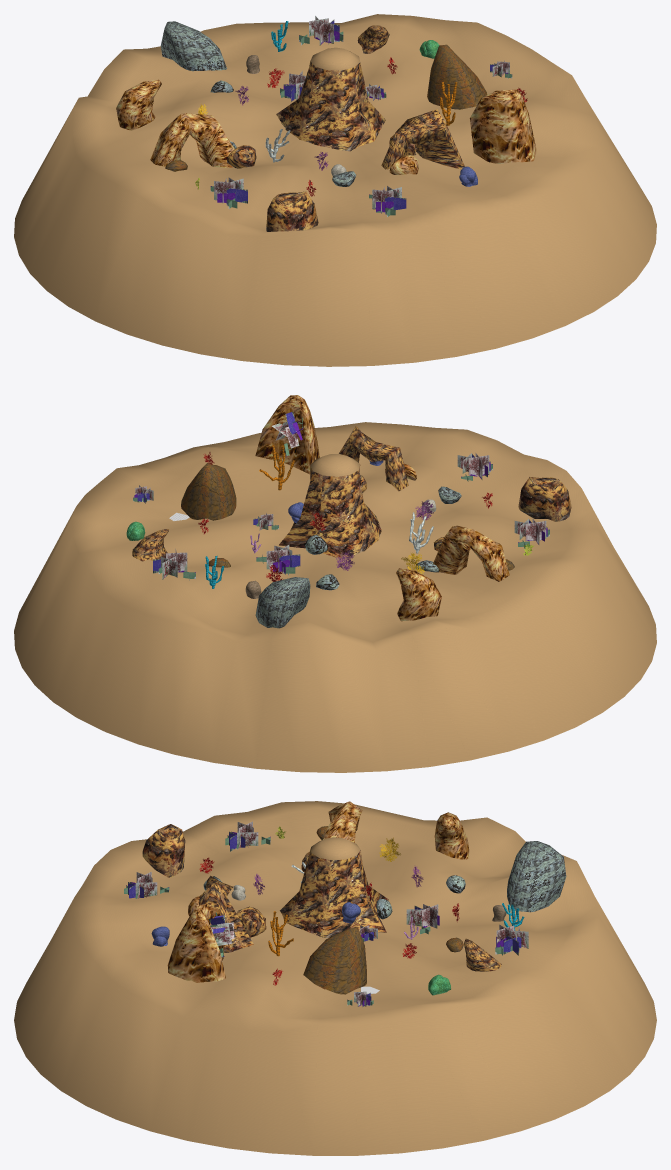
The model's file is SG_env_Terrain_ALL.FBX.
The picture shows the model from 3 angles, top to bottom: view 1: azimuth 30°, elevation 25°; view 2: azimuth 150°, elevation 25°; view 3: azimuth 270°, elevation 25°; orthographic projection.
Parts seen in each view (by area): view 1: SG_EnvTerrain, SG_env_Isle, SG_env_bigRock_3, SG_env_gate_1, SG_env_gate_2, SG_env_bigRock_2, SG_env_bigRock_1, SG_env_bigRock_4, SG_env_bigRock_5, SG_envProp_Coral2_V05, SG_envProp_Coral2_V04, SG_envProp_Coral2_V3 (+2 smaller); view 2: SG_EnvTerrain, SG_env_Isle, SG_env_bigRock_3, SG_env_gate_1, SG_env_bigRock_2, SG_env_bigRock_1, SG_env_bigRock_4, SG_env_bigRock_5, SG_env_gate_2, SG_envProp_Coral2_V06, SG_envProp_Coral2_V3, SG_env_bigRock_6 (+3 smaller); view 3: SG_EnvTerrain, SG_env_Isle, SG_env_bigRock_1, SG_env_bigRock_3, SG_env_bigRock_2, SG_env_bigRock_4, SG_env_gate_2, SG_env_bigRock_5, SG_env_gate_1, SG_envProp_Coral2_V3, SG_env_bigRock_6, SG_envProp_Coral2_V06 (+4 smaller).
Part boxes in pixels (left/top/right/bottom): SG_EnvTerrain: left=14, top=14, right=656, bottom=366; SG_env_Isle: left=276, top=47, right=385, bottom=151; SG_env_bigRock_3: left=469, top=89, right=536, bottom=163; SG_env_gate_1: left=150, top=113, right=234, bottom=167; SG_env_gate_2: left=381, top=109, right=464, bottom=169; SG_env_bigRock_2: left=427, top=44, right=487, bottom=109; SG_env_bigRock_1: left=160, top=21, right=226, bottom=71; SG_env_bigRock_4: left=266, top=191, right=318, bottom=231; SG_env_bigRock_5: left=116, top=79, right=161, bottom=130; SG_envProp_Coral2_V05: left=210, top=177, right=247, bottom=208; SG_envProp_Coral2_V04: left=369, top=186, right=406, bottom=216; SG_envProp_Coral2_V3: left=299, top=16, right=343, bottom=45; SG_EnvTerrain: left=14, top=422, right=656, bottom=772; SG_env_Isle: left=279, top=454, right=381, bottom=559; SG_env_bigRock_3: left=255, top=395, right=319, bottom=474; SG_env_gate_1: left=433, top=525, right=509, bottom=581; SG_env_bigRock_2: left=181, top=463, right=236, bottom=520; SG_env_bigRock_1: left=255, top=577, right=310, bottom=628; SG_env_bigRock_4: left=518, top=477, right=571, bottom=521; SG_env_bigRock_5: left=396, top=568, right=441, bottom=621; SG_env_gate_2: left=339, top=426, right=408, bottom=491; SG_envProp_Coral2_V06: left=256, top=544, right=300, bottom=575; SG_envProp_Coral2_V3: left=153, top=549, right=195, bottom=580; SG_env_bigRock_6: left=132, top=529, right=168, bottom=561; SG_EnvTerrain: left=14, top=801, right=656, bottom=1155; SG_env_Isle: left=280, top=837, right=388, bottom=937; SG_env_bigRock_1: left=507, top=841, right=566, bottom=912; SG_env_bigRock_3: left=167, top=903, right=225, bottom=982; SG_env_bigRock_2: left=303, top=927, right=366, bottom=994; SG_env_bigRock_4: left=142, top=824, right=185, bottom=877; SG_env_gate_2: left=199, top=875, right=253, bottom=952; SG_env_bigRock_5: left=434, top=812, right=469, bottom=859; SG_env_gate_1: left=323, top=801, right=362, bottom=842; SG_envProp_Coral2_V3: left=495, top=924, right=528, bottom=955; SG_env_bigRock_6: left=464, top=938, right=501, bottom=971; SG_envProp_Coral2_V06: left=406, top=904, right=439, bottom=934.
Size of the model in its own units: 1173 by 361 by 1175.
